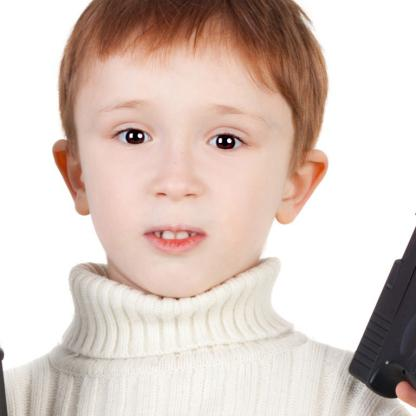gun: (348, 88, 415, 416)
